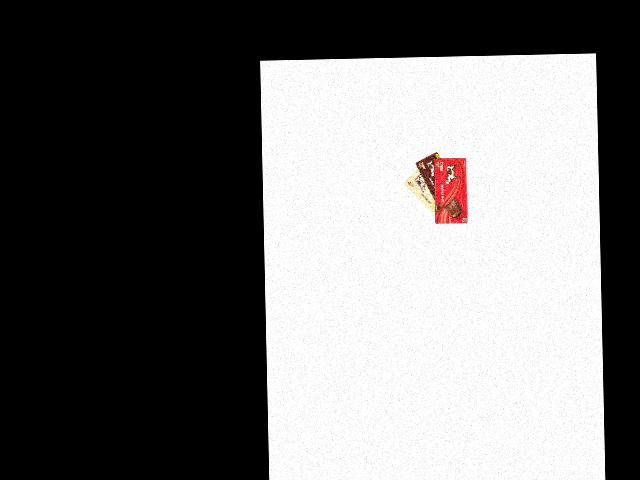chocolate: (402, 161, 441, 222)
